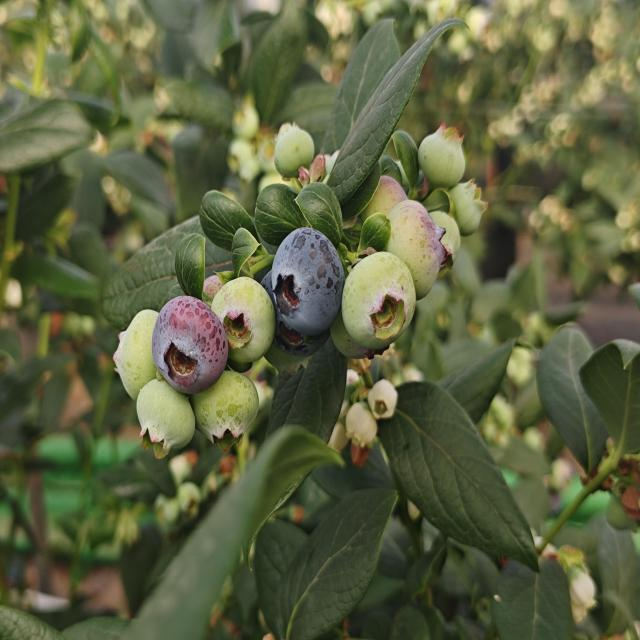ripe: (144, 284, 233, 398), (261, 230, 346, 332), (256, 262, 338, 361)
